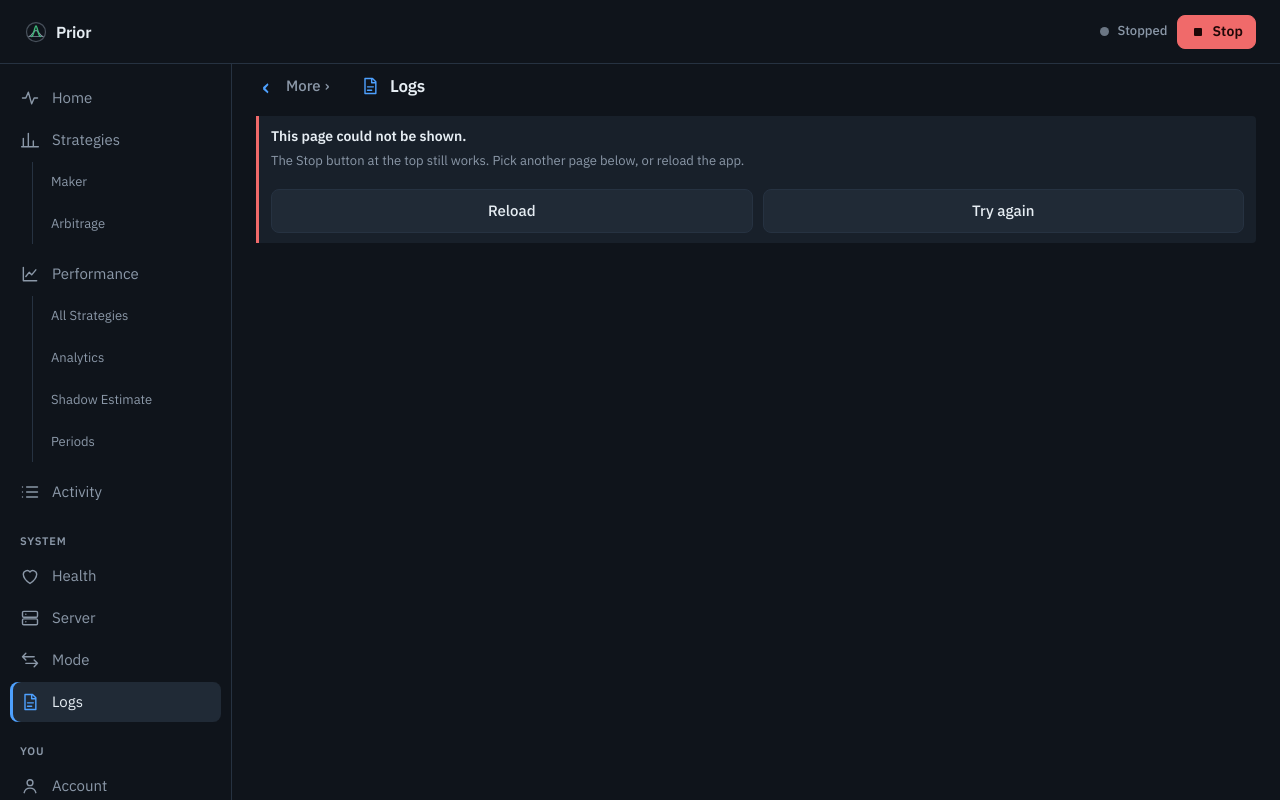
it: S-29 error boundary › navigating to another page clears the error
This screenshot has width=1280, height=800.
Expected: the text "This page could not be shown." is shown, [271,127,466,145]
What coordinates should you click on to do the following:
click the link "Home"
I would click on:
 (56, 98)
Its box is [20,88,92,108].
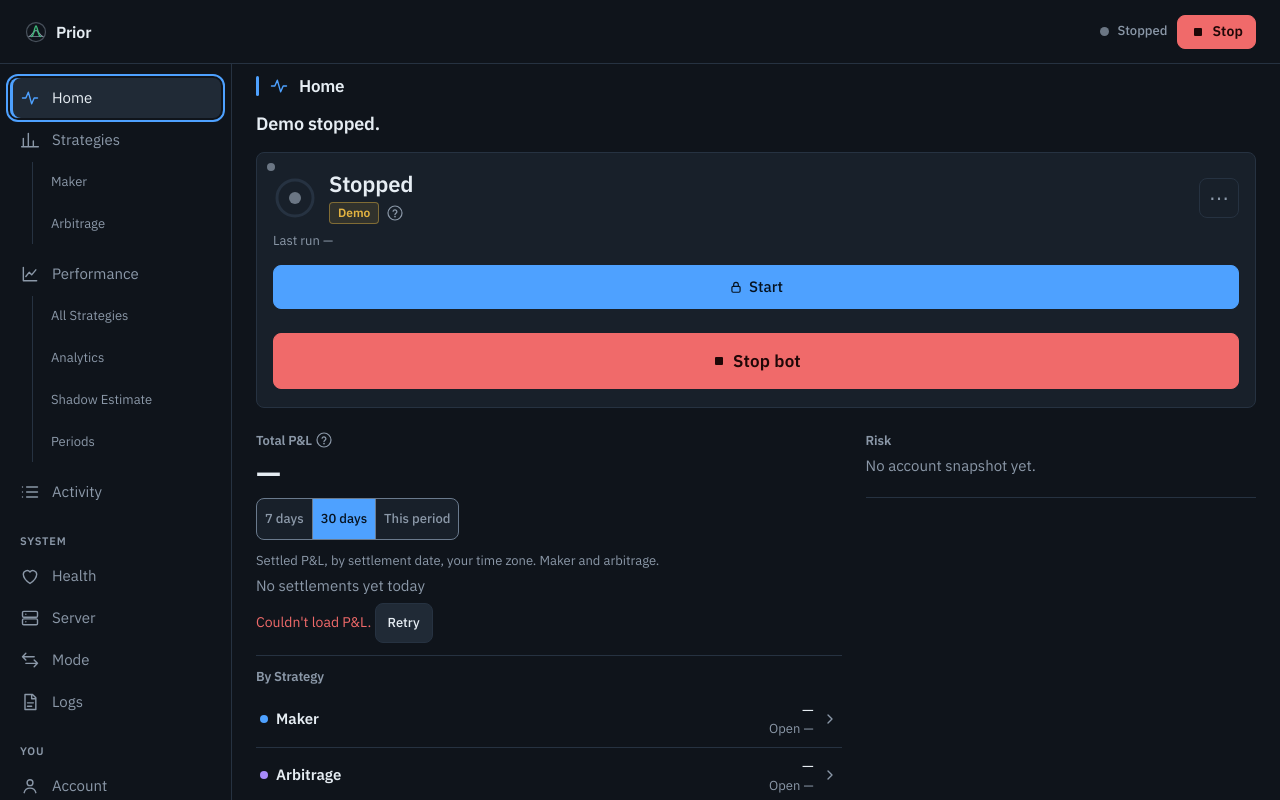
Expected: the button with aria-label "stop the bot" is shown, [1178,14,1256,48]
Now the text "This page could not be shown." is gone
